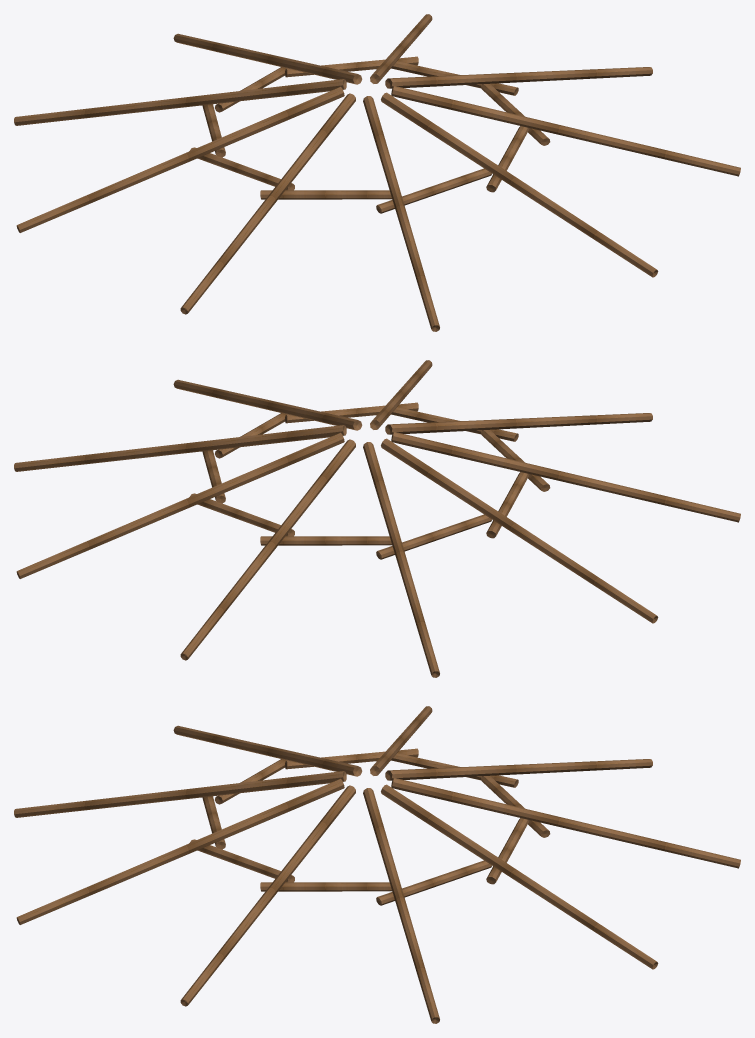
File: parasolFrame.fbx
The picture shows the model from 3 angles, top to bottom: view 1: azimuth 30°, elevation 25°; view 2: azimuth 150°, elevation 25°; view 3: azimuth 270°, elevation 25°; orthographic projection.
Visible parts, largest first — view 1: ParasolFrame; view 2: ParasolFrame; view 3: ParasolFrame.
Boxes of the visible parts, box(x1,y1,x2,y2) form: ParasolFrame: box(14, 14, 740, 331); ParasolFrame: box(14, 360, 740, 677); ParasolFrame: box(14, 706, 740, 1023).
Size of the model in its own units: 254 by 35.34 by 250.
